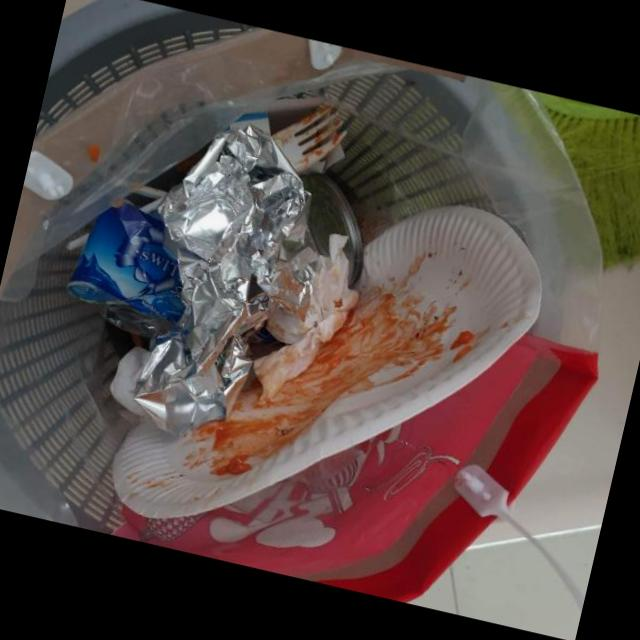giay: (110, 207, 542, 520), (252, 234, 358, 401)
nhom: (133, 117, 313, 434)
